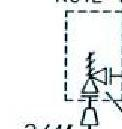psv: (78, 49, 107, 97)
